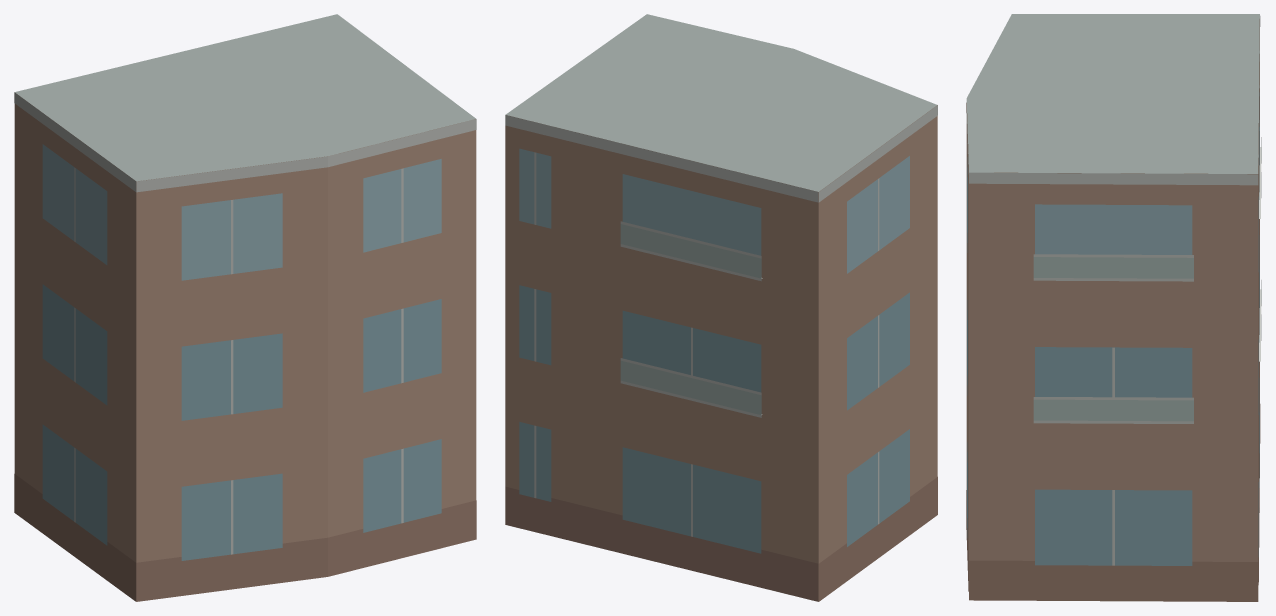
Rendered from survey-upis-32512982.glb.
3 renders of one model, left to right at view 1: azimuth 30°, elevation 25°; view 2: azimuth 150°, elevation 25°; view 3: azimuth 270°, elevation 25°, orthographic. The views are drawn at different scales.
Visible parts, largest first — view 1: survey-upis-32512982.tmp; view 2: survey-upis-32512982.tmp; view 3: survey-upis-32512982.tmp.
Part boxes in pixels (<box>): survey-upis-32512982.tmp: <box>14,14,476,601</box>; survey-upis-32512982.tmp: <box>505,14,937,601</box>; survey-upis-32512982.tmp: <box>966,14,1261,601</box>.
Size of the model in its own units: 7.49 by 9.3 by 5.82.
